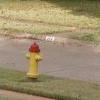Hydrant: (19, 36, 44, 87)
